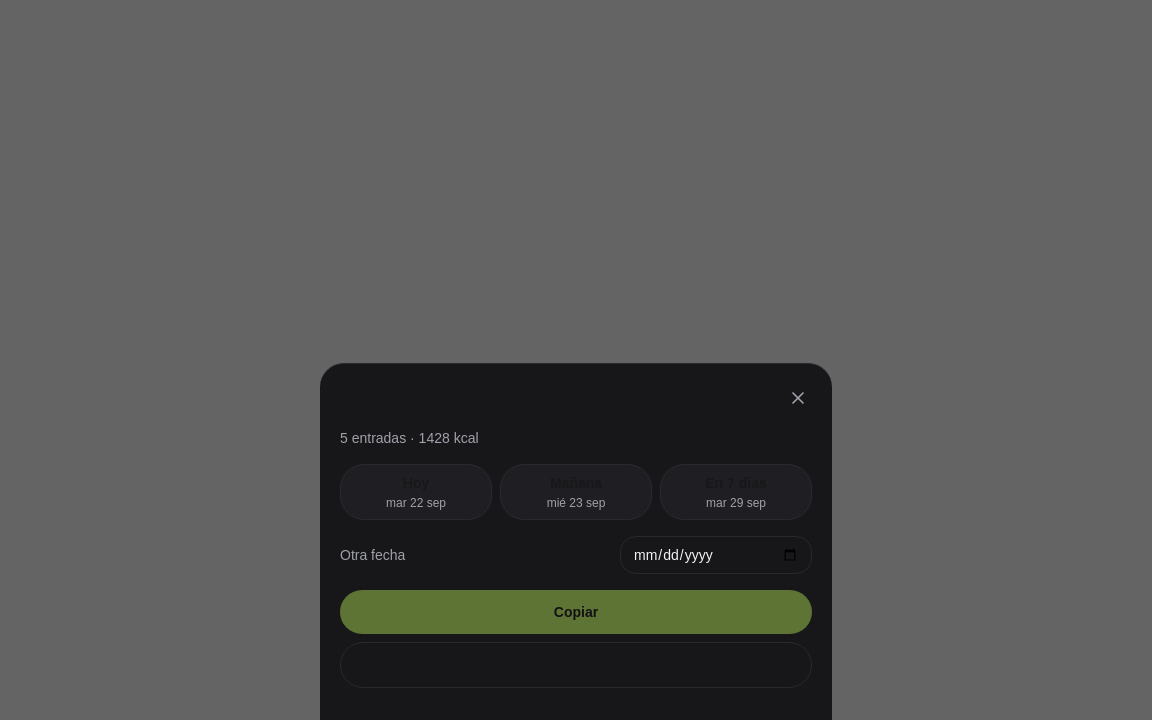
Test: R6: cuándo se puede copiar › fecha borrada: «Copiar» desactivado, también tras haber elegido un atajo
The image size is (1152, 720).
Click the button "Hoy mar 22 sep" at (416, 492), box [340,464,492,520]
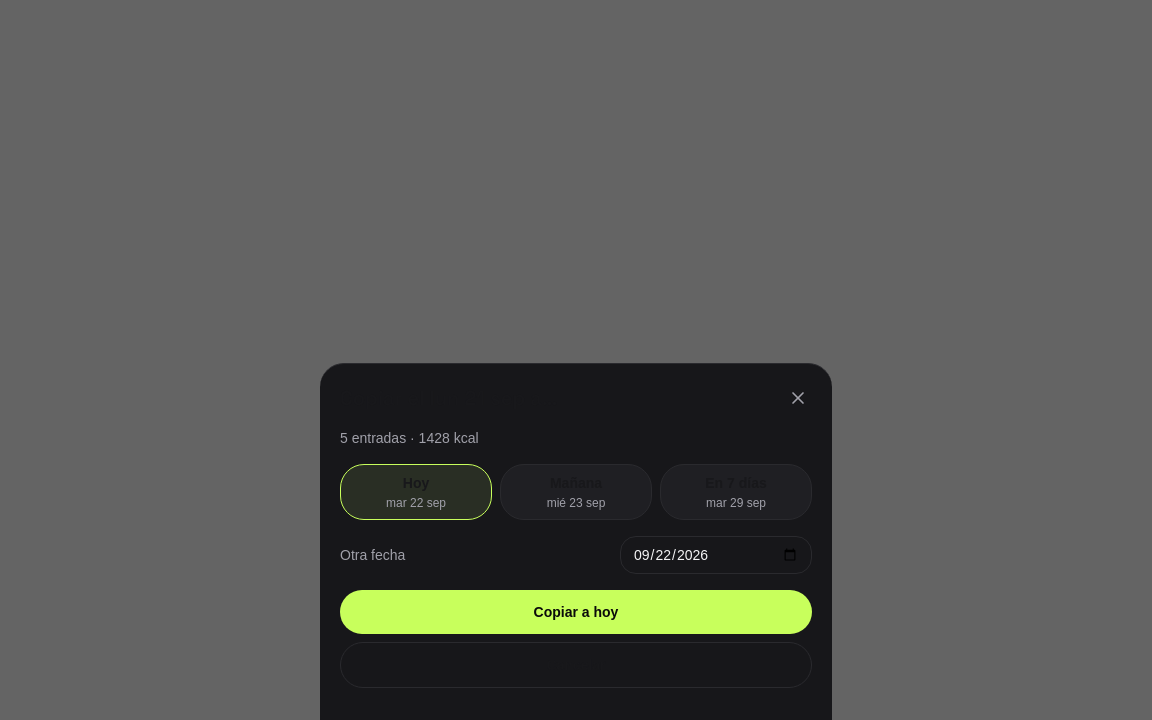
Clear the date field labelled "Otra fecha" at (716, 555), box [620,536,812,574]
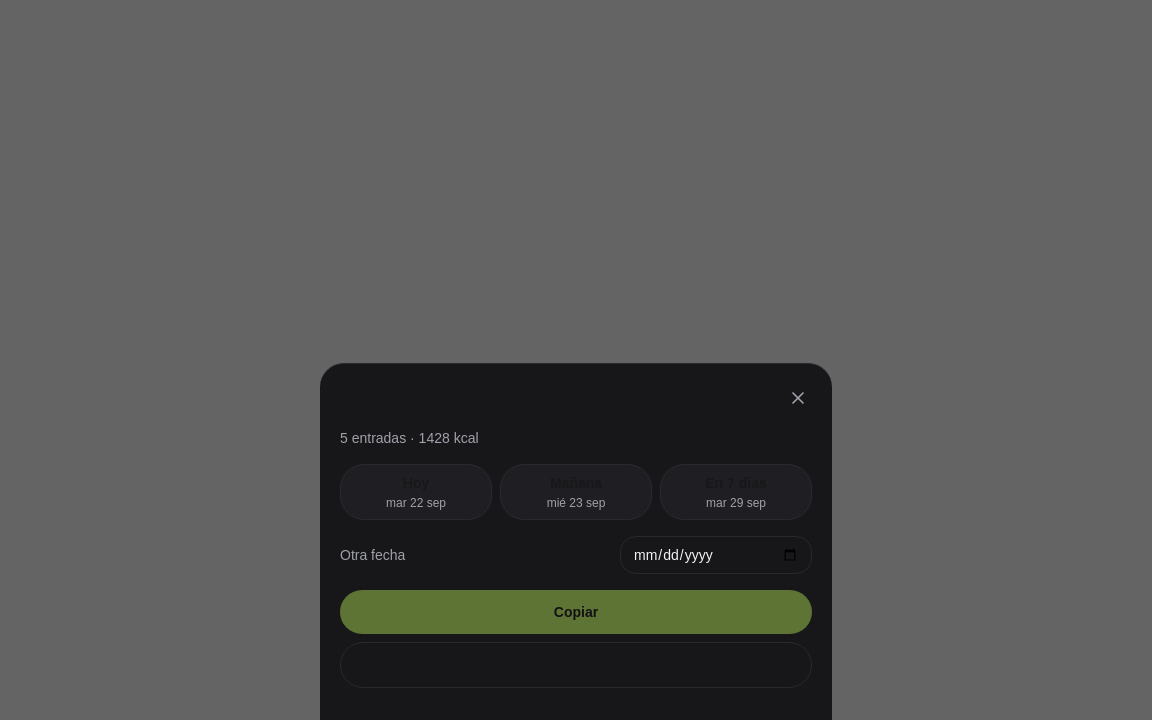
Now the button "Copiar" is disabled, box [340,590,812,634]
